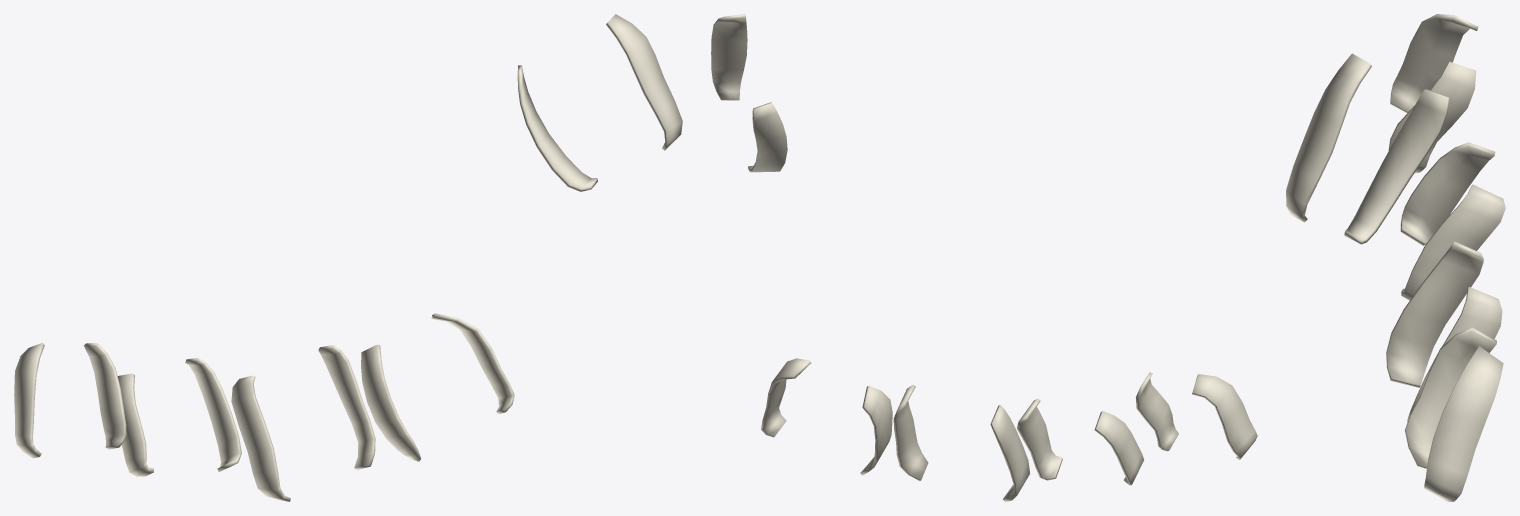
3 renders of one model, left to right at view 1: azimuth 30°, elevation 25°; view 2: azimuth 150°, elevation 25°; view 3: azimuth 270°, elevation 25°, orthographic. The views are drawn at different scales.
Parts seen in each view (by area): view 1: ZA_183a98a19476b64e; view 2: ZA_183a98a19476b64e; view 3: ZA_183a98a19476b64e.
Boxes of the visible parts, x1,y1,x2,y2 form: ZA_183a98a19476b64e: (14,14,682,501); ZA_183a98a19476b64e: (711,14,1257,501); ZA_183a98a19476b64e: (1286,14,1505,501).
Size of the model in its own units: 0.0934 by 0.0616 by 0.0238.
